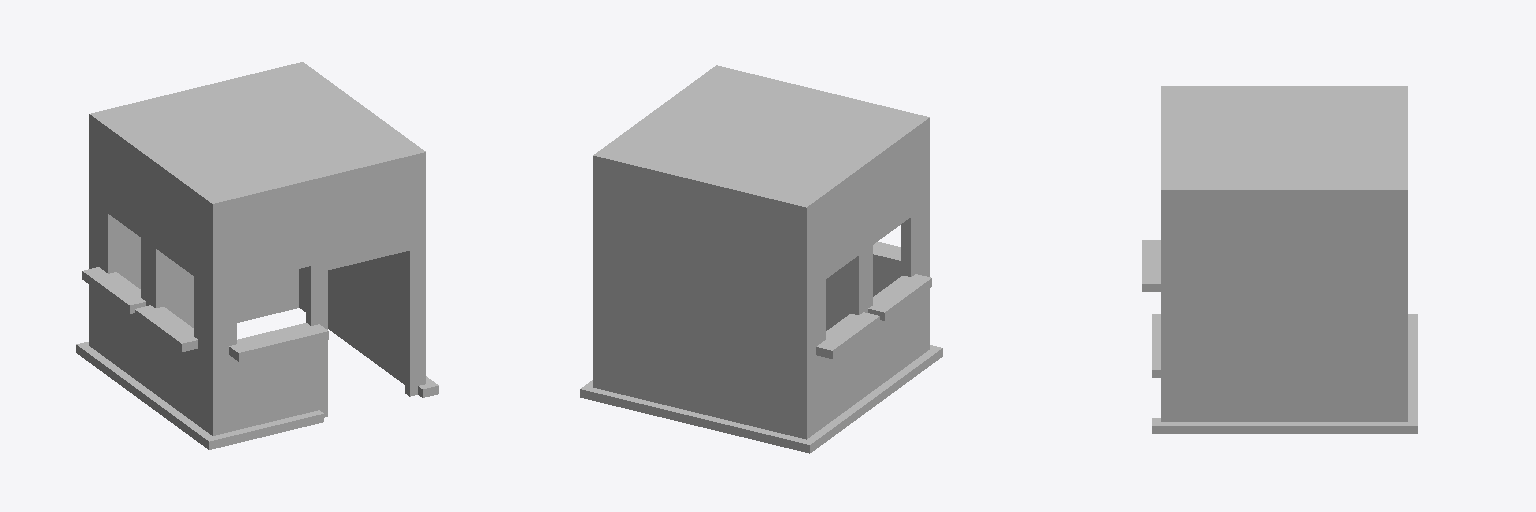
The model's file is little house.obj.
3 views of the same model, side by side, from view 1: azimuth 30°, elevation 25°; view 2: azimuth 150°, elevation 25°; view 3: azimuth 270°, elevation 25° (orthographic).
Visible parts, largest first — view 1: little house; view 2: little house; view 3: little house.
Part boxes in pixels (x1,y1,x2,y2): little house: (76, 62, 438, 449); little house: (580, 65, 942, 453); little house: (1142, 86, 1417, 433).
Bounding box in the file's own units: 29 × 28 × 29.